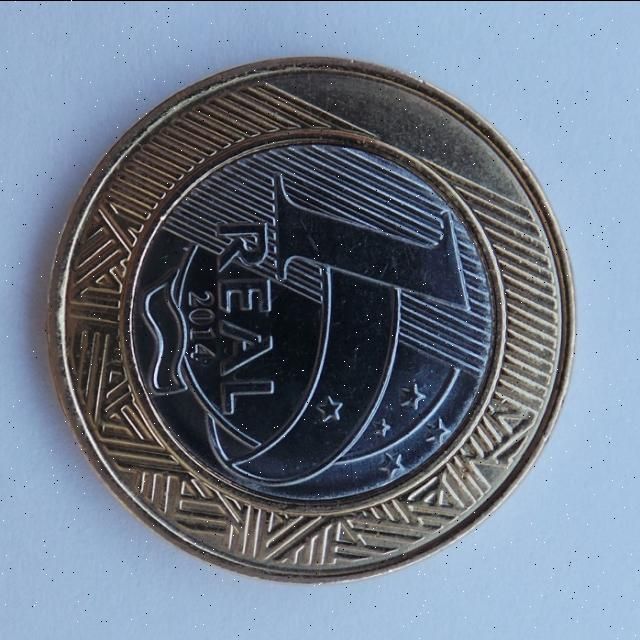1 real: (53, 58, 583, 580)
